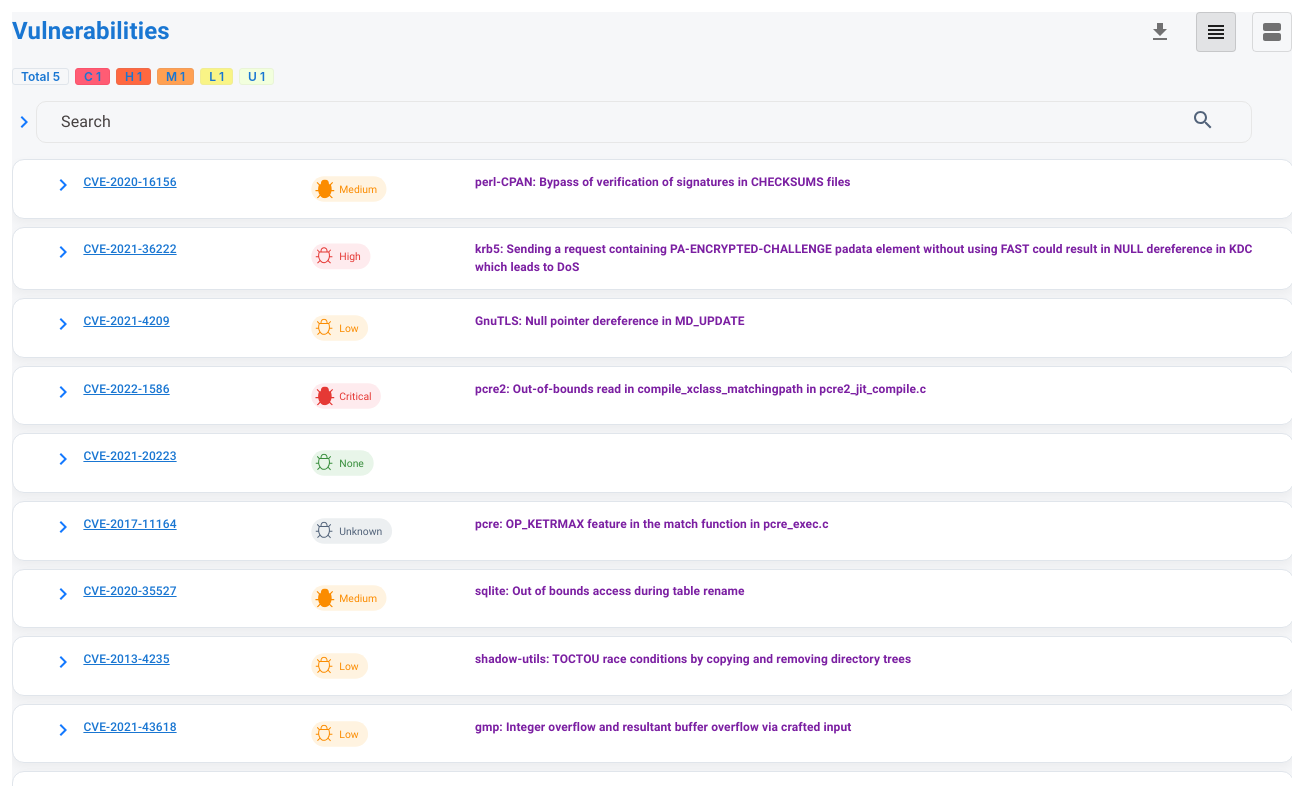
Scenario: Vulnerabilties page › should handle fixed CVE query errors
Check: the text "Vulnerabilities" is shown once, box [12,17,170,47]
Click the 2nd icon with test id "KeyboardArrowRightIcon". click: (63, 185)
box: [51,173,75,197]
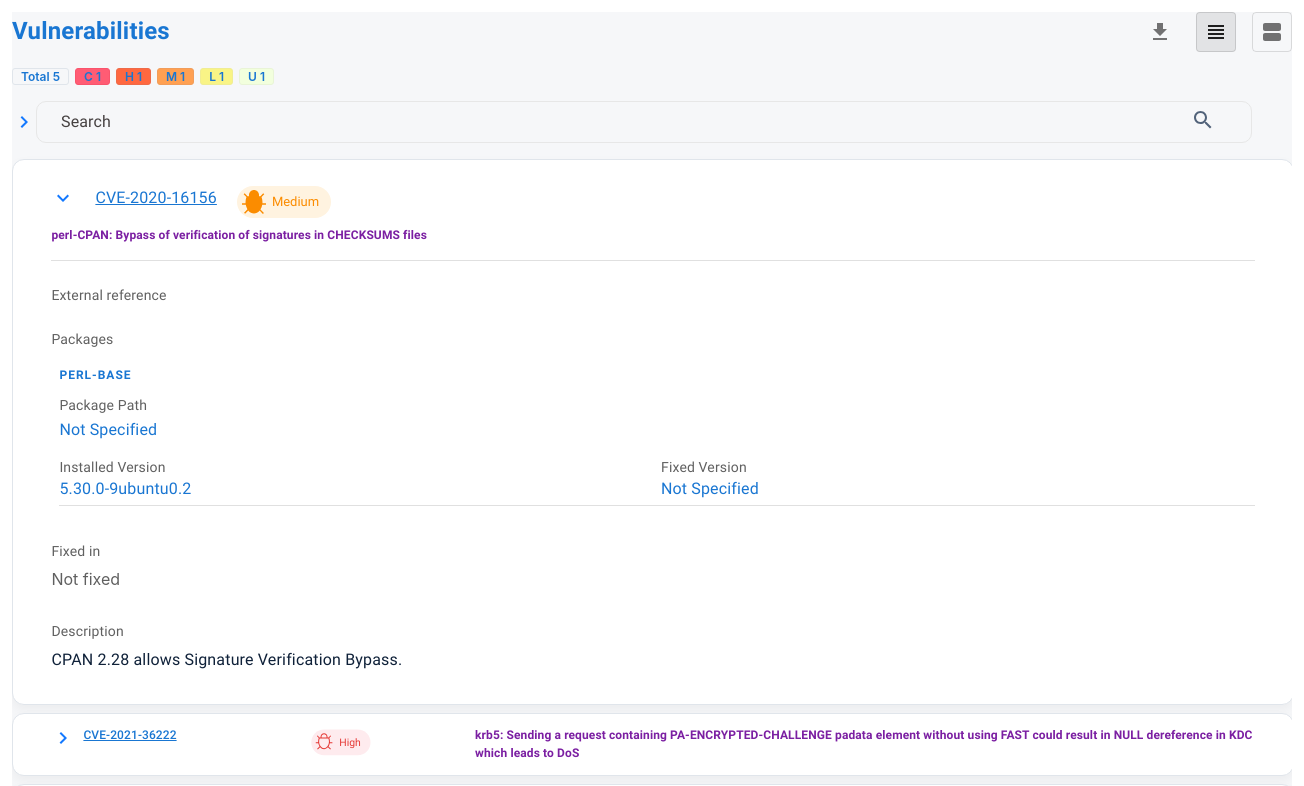
Check: the text "Not fixed" is shown, box [51,569,120,589]
